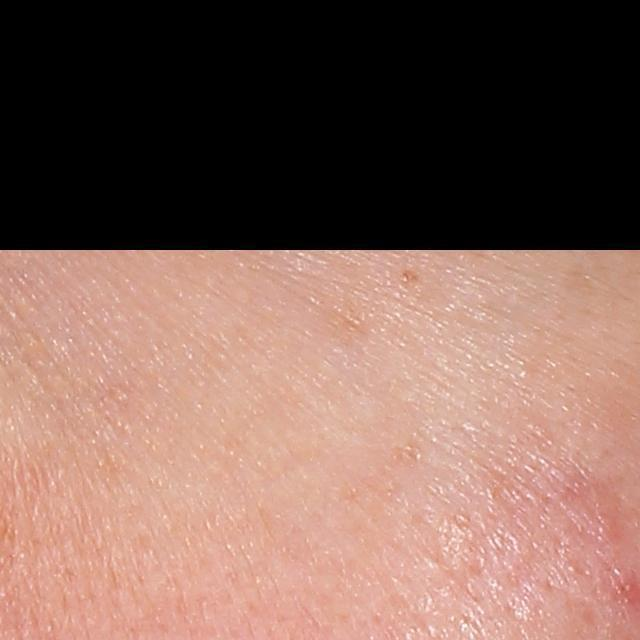melasma: (396, 267, 419, 284)
